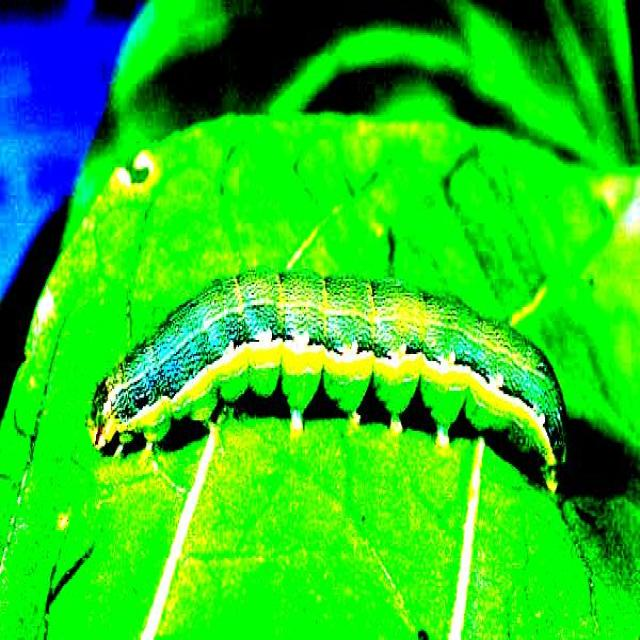Armyworm: (82, 228, 590, 557)
